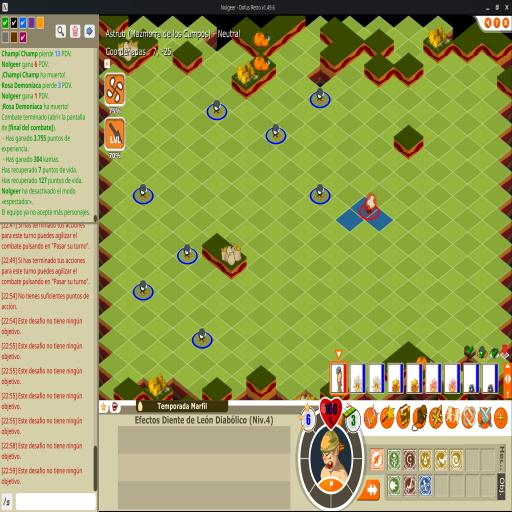Enemigos: (138, 280, 150, 297), (139, 183, 150, 201), (316, 183, 327, 201), (183, 243, 194, 261), (316, 87, 326, 106), (212, 98, 222, 116), (272, 123, 282, 141), (198, 327, 208, 345)
Personaje: (363, 194, 377, 216)
